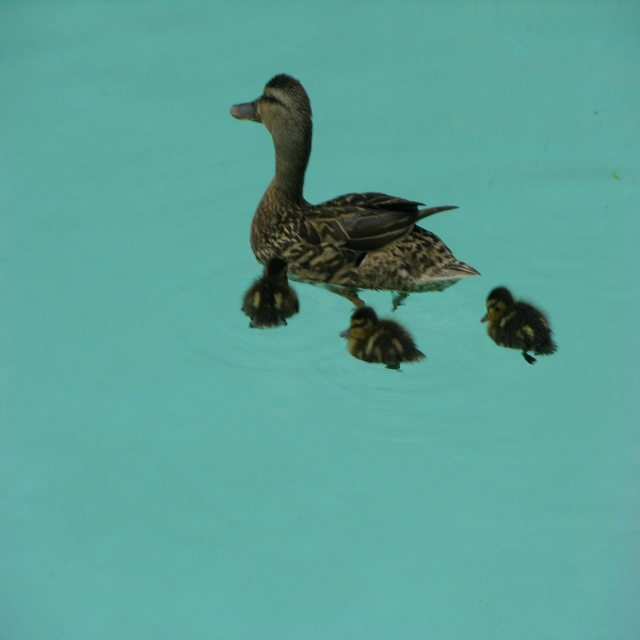Duck: (226, 71, 478, 306), (480, 287, 563, 380), (334, 302, 429, 378), (232, 258, 298, 329)
